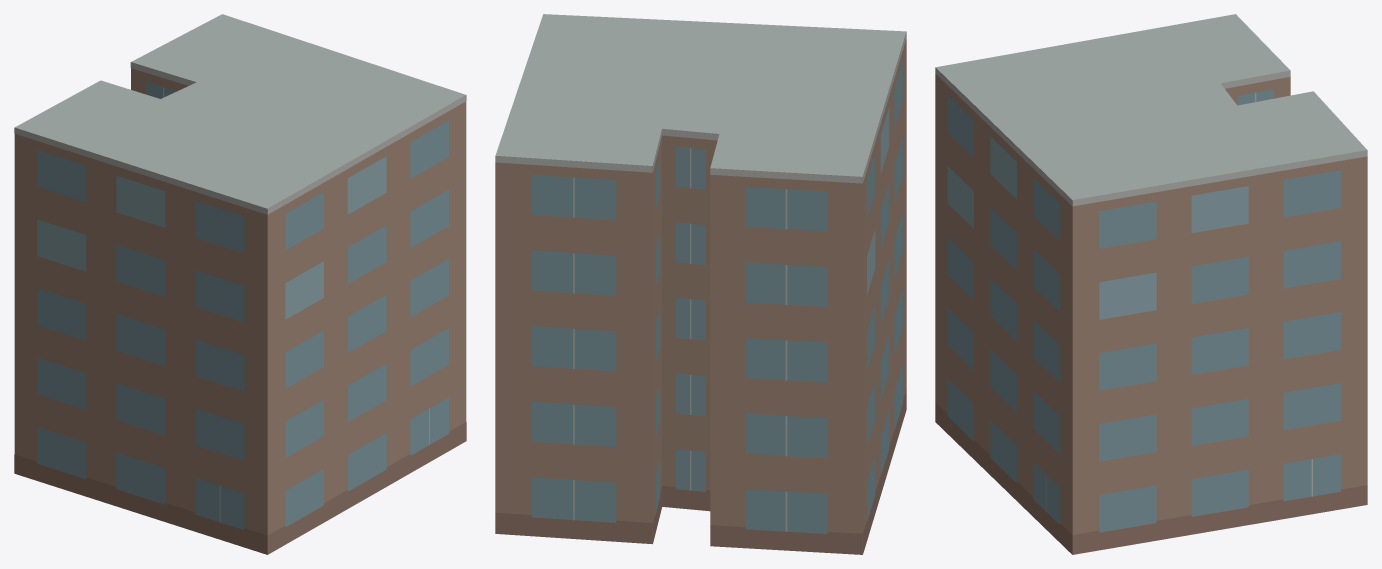
The model's file is survey-upis-32953064.glb.
3 renders of one model, left to right at view 1: azimuth 30°, elevation 25°; view 2: azimuth 150°, elevation 25°; view 3: azimuth 270°, elevation 25°, orthographic. The views are drawn at different scales.
Parts seen in each view (by area): view 1: survey-upis-32953064.tmp; view 2: survey-upis-32953064.tmp; view 3: survey-upis-32953064.tmp.
Part boxes in pixels (box(x1,y1,x2,y2)): survey-upis-32953064.tmp: box(14, 14, 466, 554); survey-upis-32953064.tmp: box(495, 14, 906, 554); survey-upis-32953064.tmp: box(935, 14, 1367, 554).
Size of the model in its own units: 15.6 by 13.85 by 15.3.
